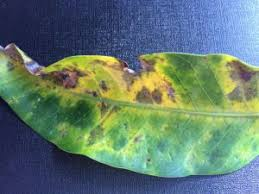unhealthy: (7, 36, 254, 184)
